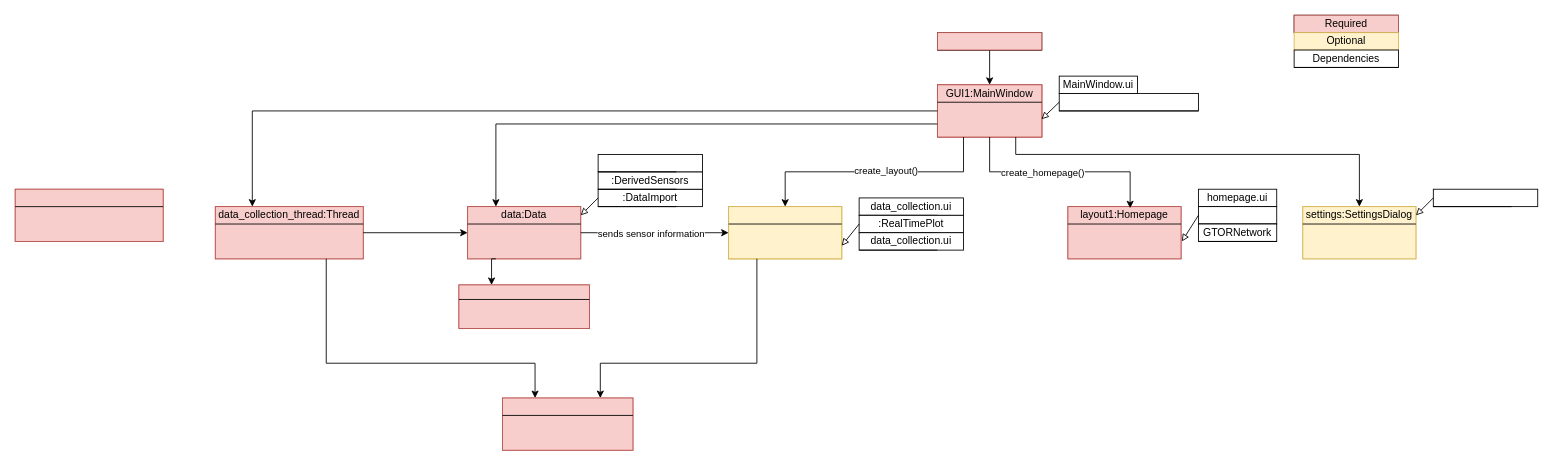
Image size: 1553x465. Some labels were removed from this diagram. Here are the shapes that lost their labels. From the top down, the centre of each, then its label:
At [989,41]: "daata.py".
At [1128,102]: "popup_ParentChildrenTree".
At [650,163]: ":Sensors".
At [1237,215]: "MATLAB".
At [1485,197]: "settings.ui".
At [785,232]: "layout2:DataCollection".
At [523,306]: "data_collection_lock:Lock".
At [567,423]: "is_data_collecting:Event".
